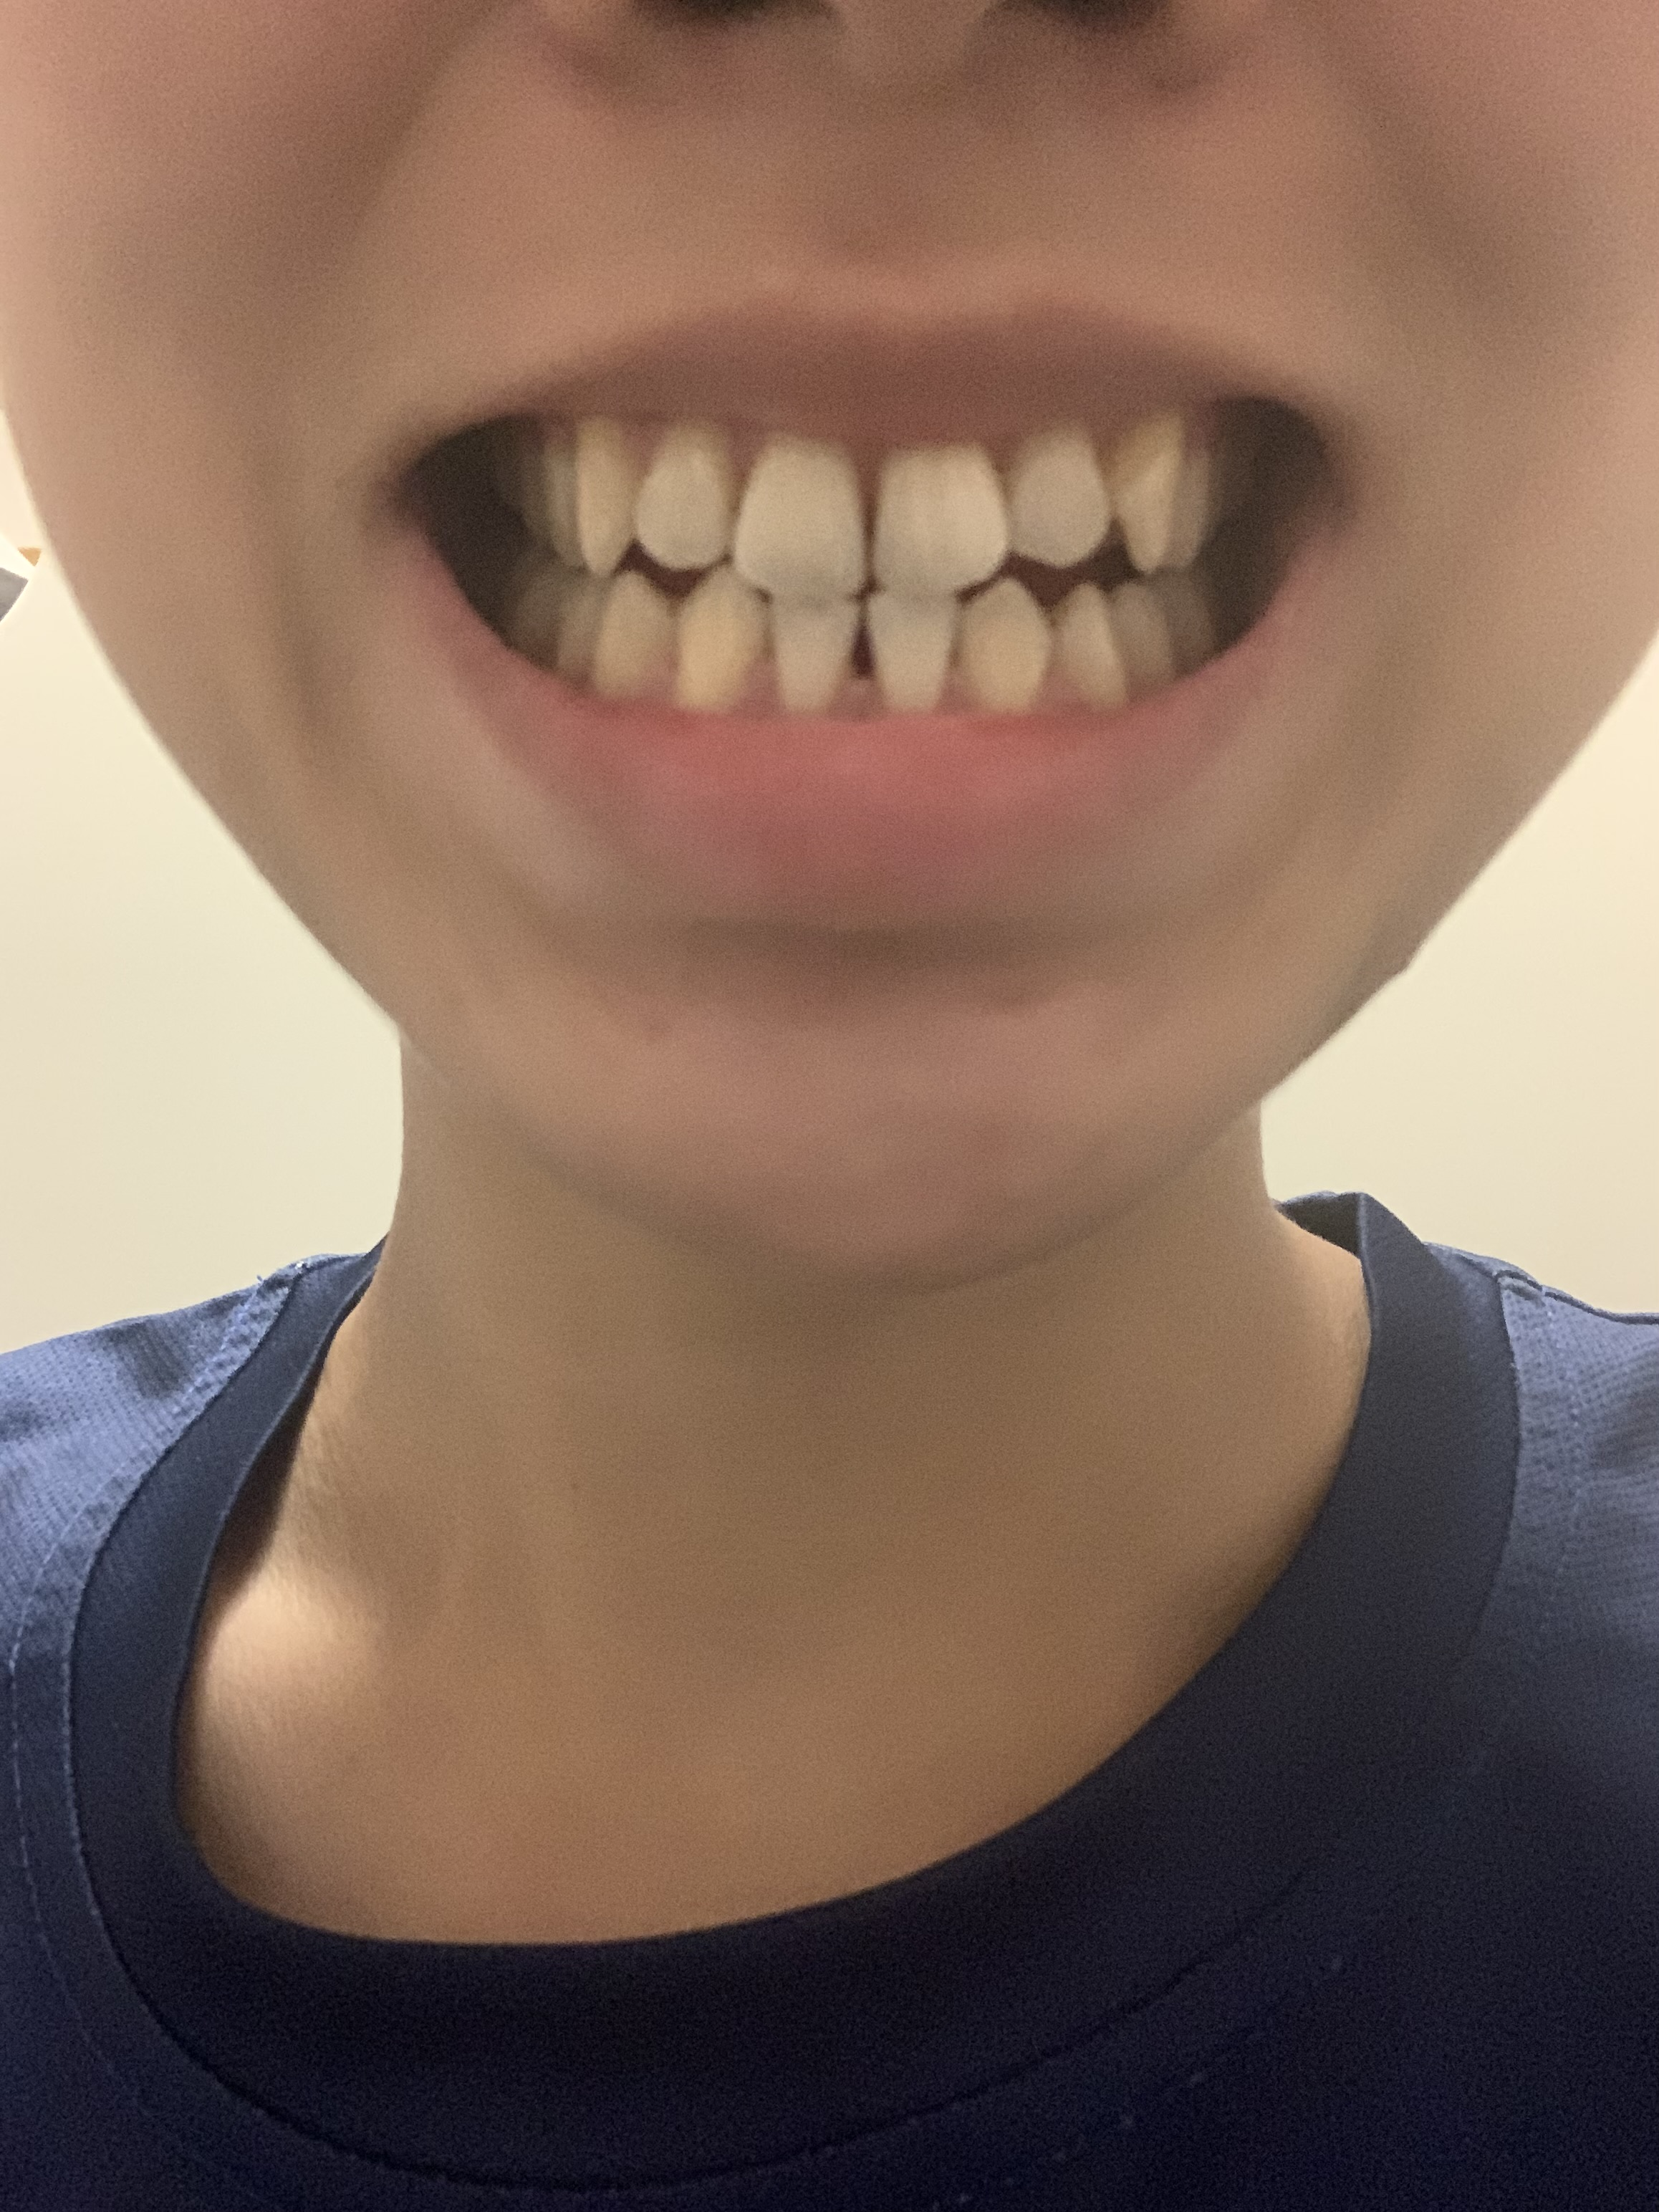teeth: (735, 430, 857, 592), (875, 446, 1000, 590), (638, 425, 730, 564), (1108, 408, 1187, 566), (1009, 425, 1101, 559), (680, 575, 762, 714), (960, 578, 1046, 700), (770, 608, 856, 711), (868, 594, 945, 700), (596, 577, 666, 690), (579, 421, 626, 582), (1058, 583, 1121, 700), (1157, 568, 1225, 650), (1114, 587, 1175, 678), (509, 545, 558, 643), (542, 444, 579, 559), (514, 449, 547, 547), (556, 578, 592, 665), (1168, 455, 1194, 564)
